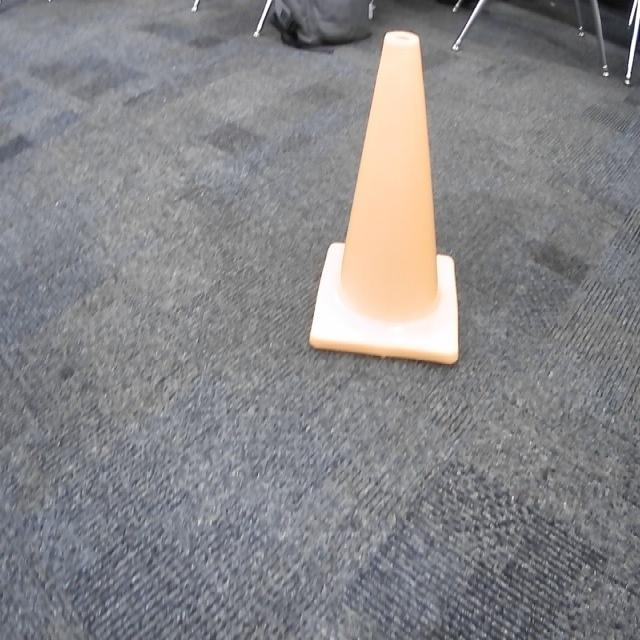cone: (307, 27, 464, 372)
